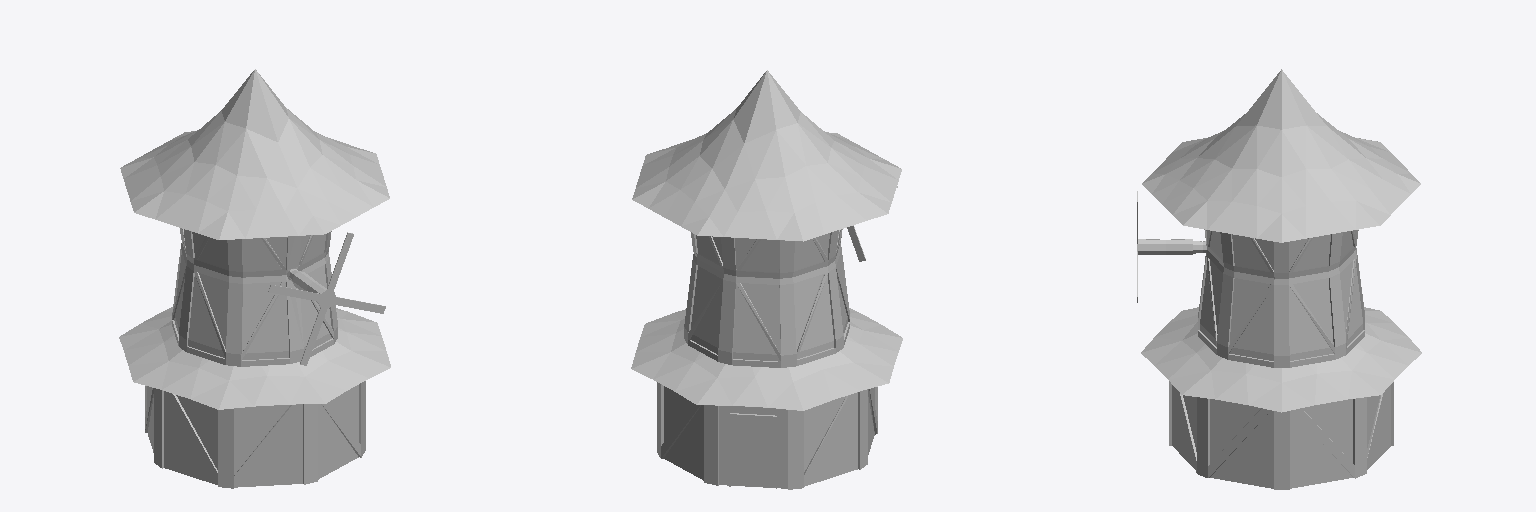
File: Windmill.obj
3 renders of one model, left to right at view 1: azimuth 30°, elevation 25°; view 2: azimuth 150°, elevation 25°; view 3: azimuth 270°, elevation 25°, orthographic.
Parts seen in each view (by area): view 1: Cylinder; view 2: Cylinder; view 3: Cylinder.
Part boxes in pixels (x1,y1,x2,y2): Cylinder: (119, 69, 390, 488); Cylinder: (631, 70, 902, 489); Cylinder: (1137, 69, 1421, 489).
Bounding box in the file's own units: 5.01 × 7.32 × 5.07.